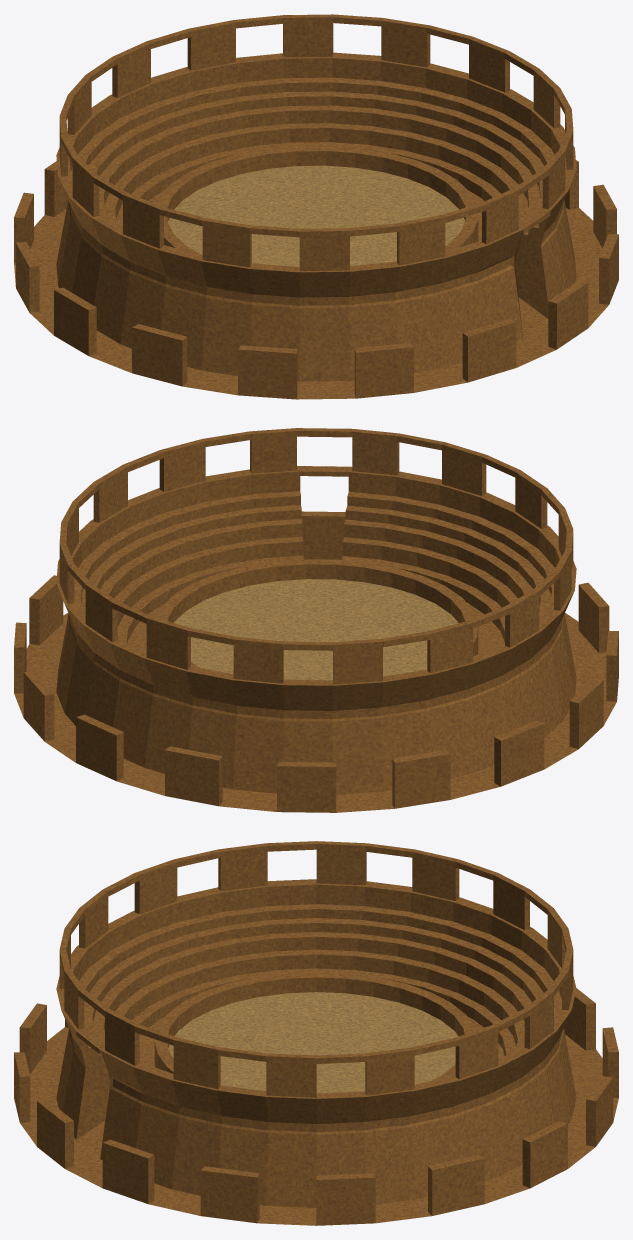
File: arena.fbx
3 renders of one model, top to bottom at view 1: azimuth 30°, elevation 25°; view 2: azimuth 150°, elevation 25°; view 3: azimuth 270°, elevation 25°, orthographic.
Parts seen in each view (by area): view 1: Cylinder.001; view 2: Cylinder.001; view 3: Cylinder.001.
Boxes of the visible parts, bbox=[...] form: Cylinder.001: bbox=[14, 14, 618, 399]; Cylinder.001: bbox=[14, 428, 618, 812]; Cylinder.001: bbox=[14, 841, 618, 1225].
Size of the model in its own units: 4022 by 1089 by 4022.
1 material, 1 textured.
